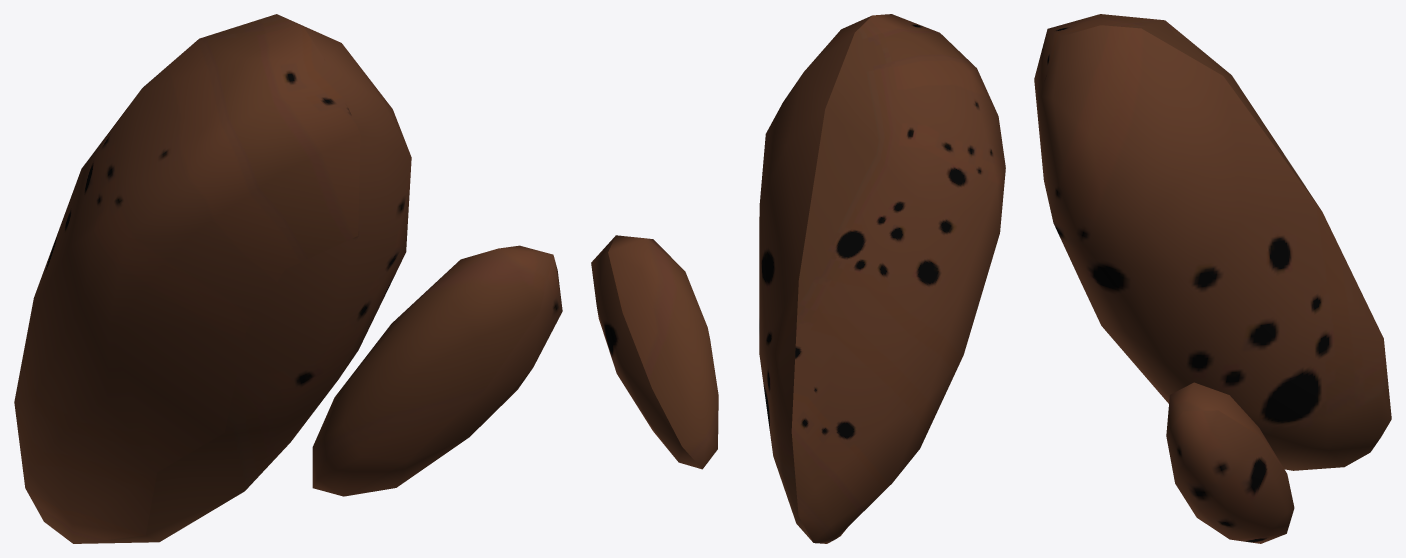
File: Seed.fbx
The picture shows the model from 3 angles, left to right: view 1: azimuth 30°, elevation 25°; view 2: azimuth 150°, elevation 25°; view 3: azimuth 270°, elevation 25°; orthographic projection. The views are drawn at different scales.
Visible parts, largest first — view 1: mdlSeed; view 2: mdlSeed; view 3: mdlSeed.
Part boxes in pixels (left/top/right/bottom): mdlSeed: left=14, top=14, right=562, bottom=543; mdlSeed: left=591, top=14, right=1005, bottom=543; mdlSeed: left=1034, top=14, right=1391, bottom=543.
Bounding box in the file's own units: 3.04 × 3.33 × 2.28.
1 material, 1 textured.
